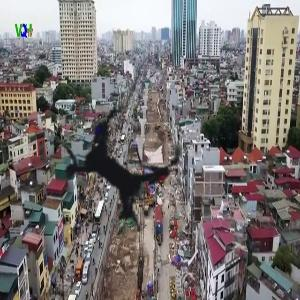drone: (4, 58, 224, 278)
